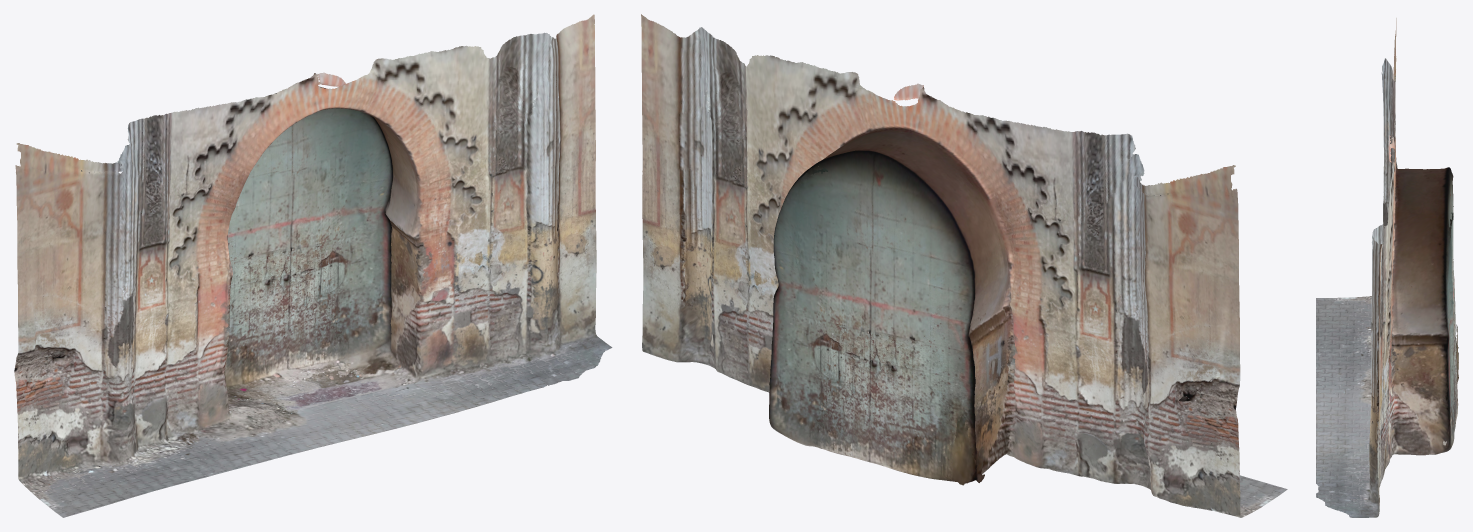
The model's file is bab_manssour.glb.
The picture shows the model from 3 angles, left to right: view 1: azimuth 30°, elevation 25°; view 2: azimuth 150°, elevation 25°; view 3: azimuth 270°, elevation 25°; orthographic projection. The views are drawn at different scales.
Parts seen in each view (by area): view 1: Object_2; view 2: Object_2; view 3: Object_2.
Boxes of the visible parts, <box> form: Object_2: <box>14,14,612,517</box>; Object_2: <box>641,14,1287,517</box>; Object_2: <box>1316,18,1458,517</box>.
Size of the model in its own units: 7.8 by 4.44 by 2.02.
Materials: 1 (1 with a texture image).
